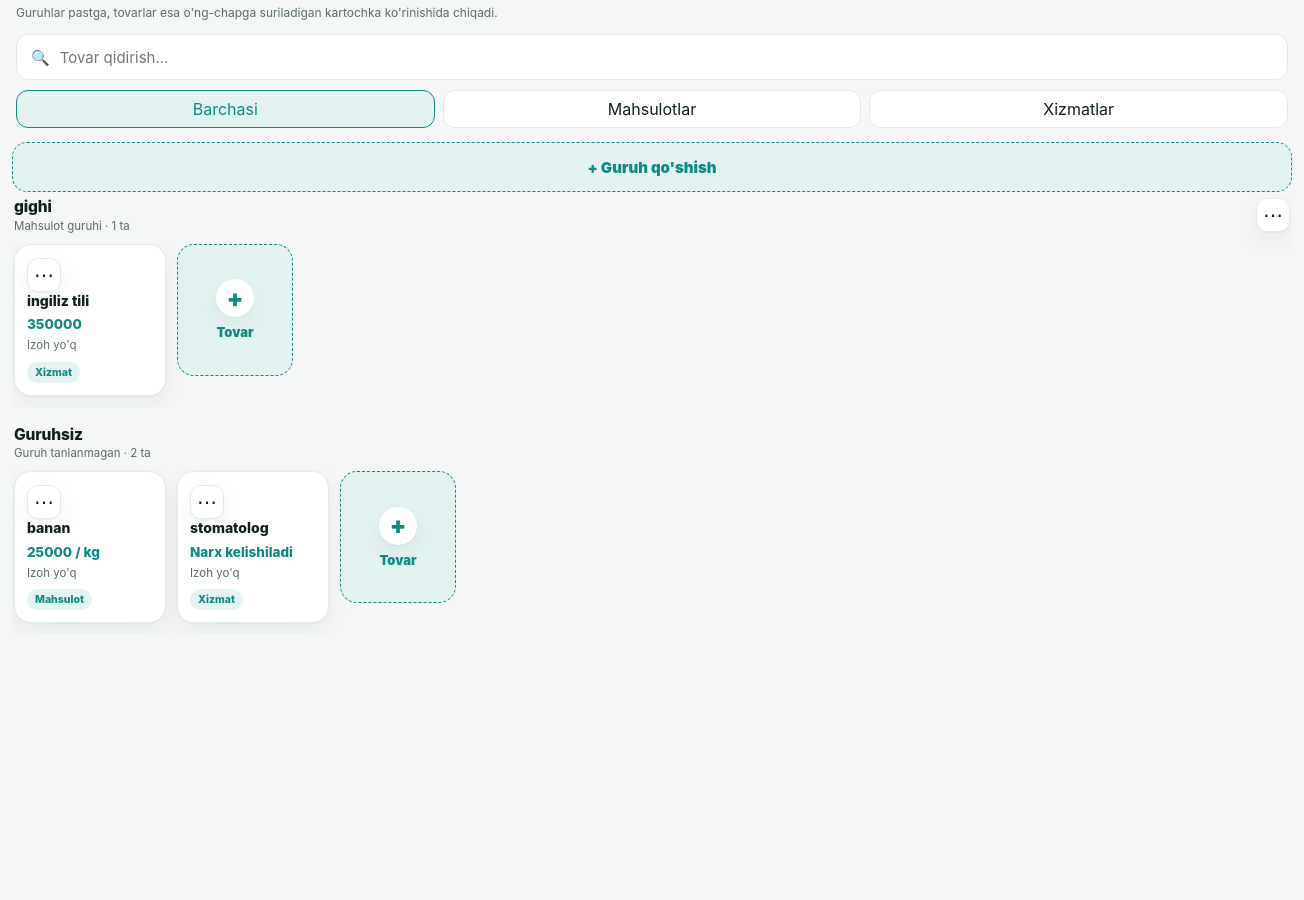
it: v1656 mahsulot va xizmatlar pariteti › guruh menyusida monolitdagi nomlarni ko'rsatadi
This screenshot has width=1304, height=900.
Click the button named "gighi amallari" at (1273, 215), box [1256,198,1290,232]
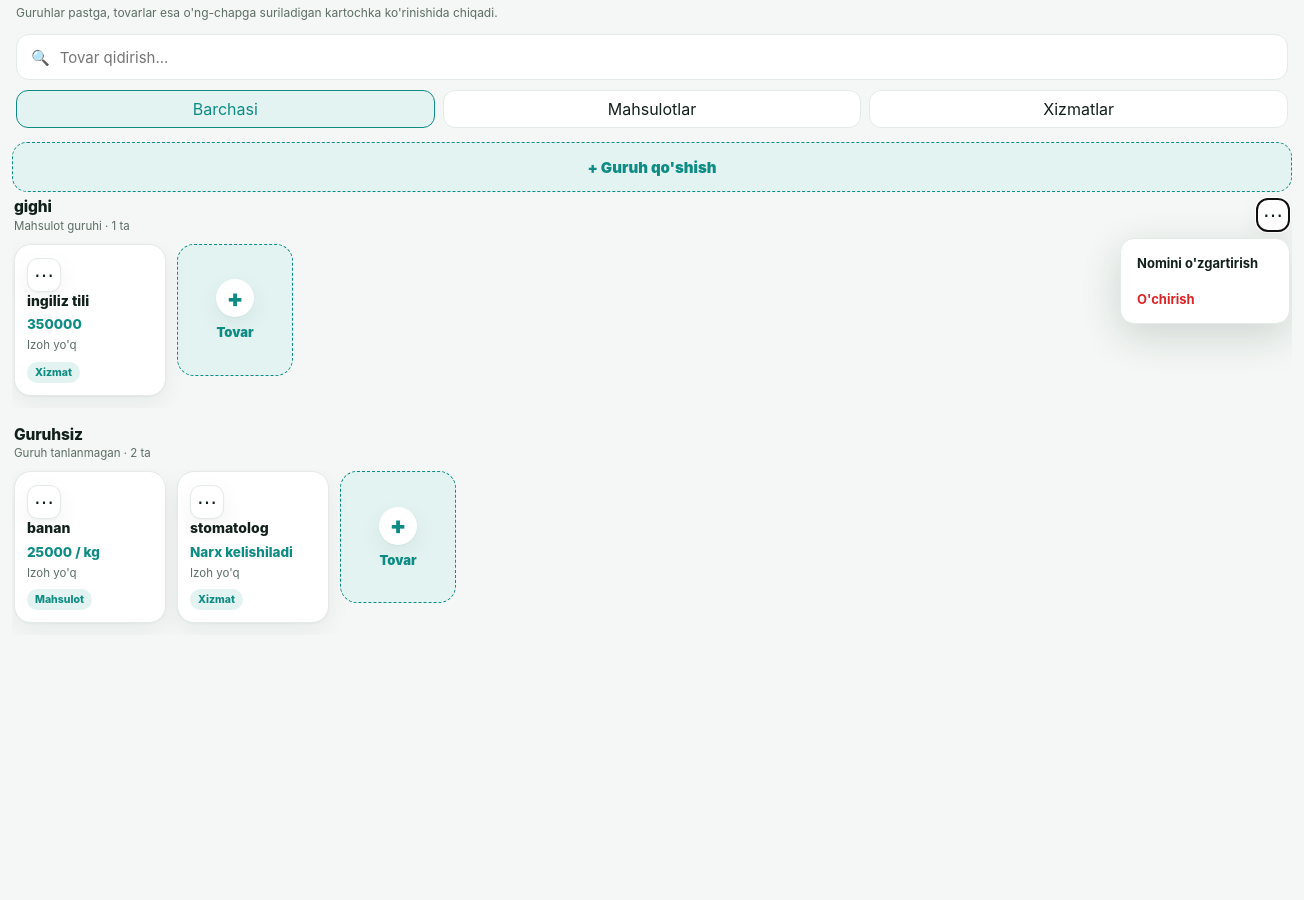
Expected: the button "Nomini o'zgartirish" is shown, [1127,245,1283,281]
Expected: the button "O'chirish" is shown, [1127,281,1283,317]
